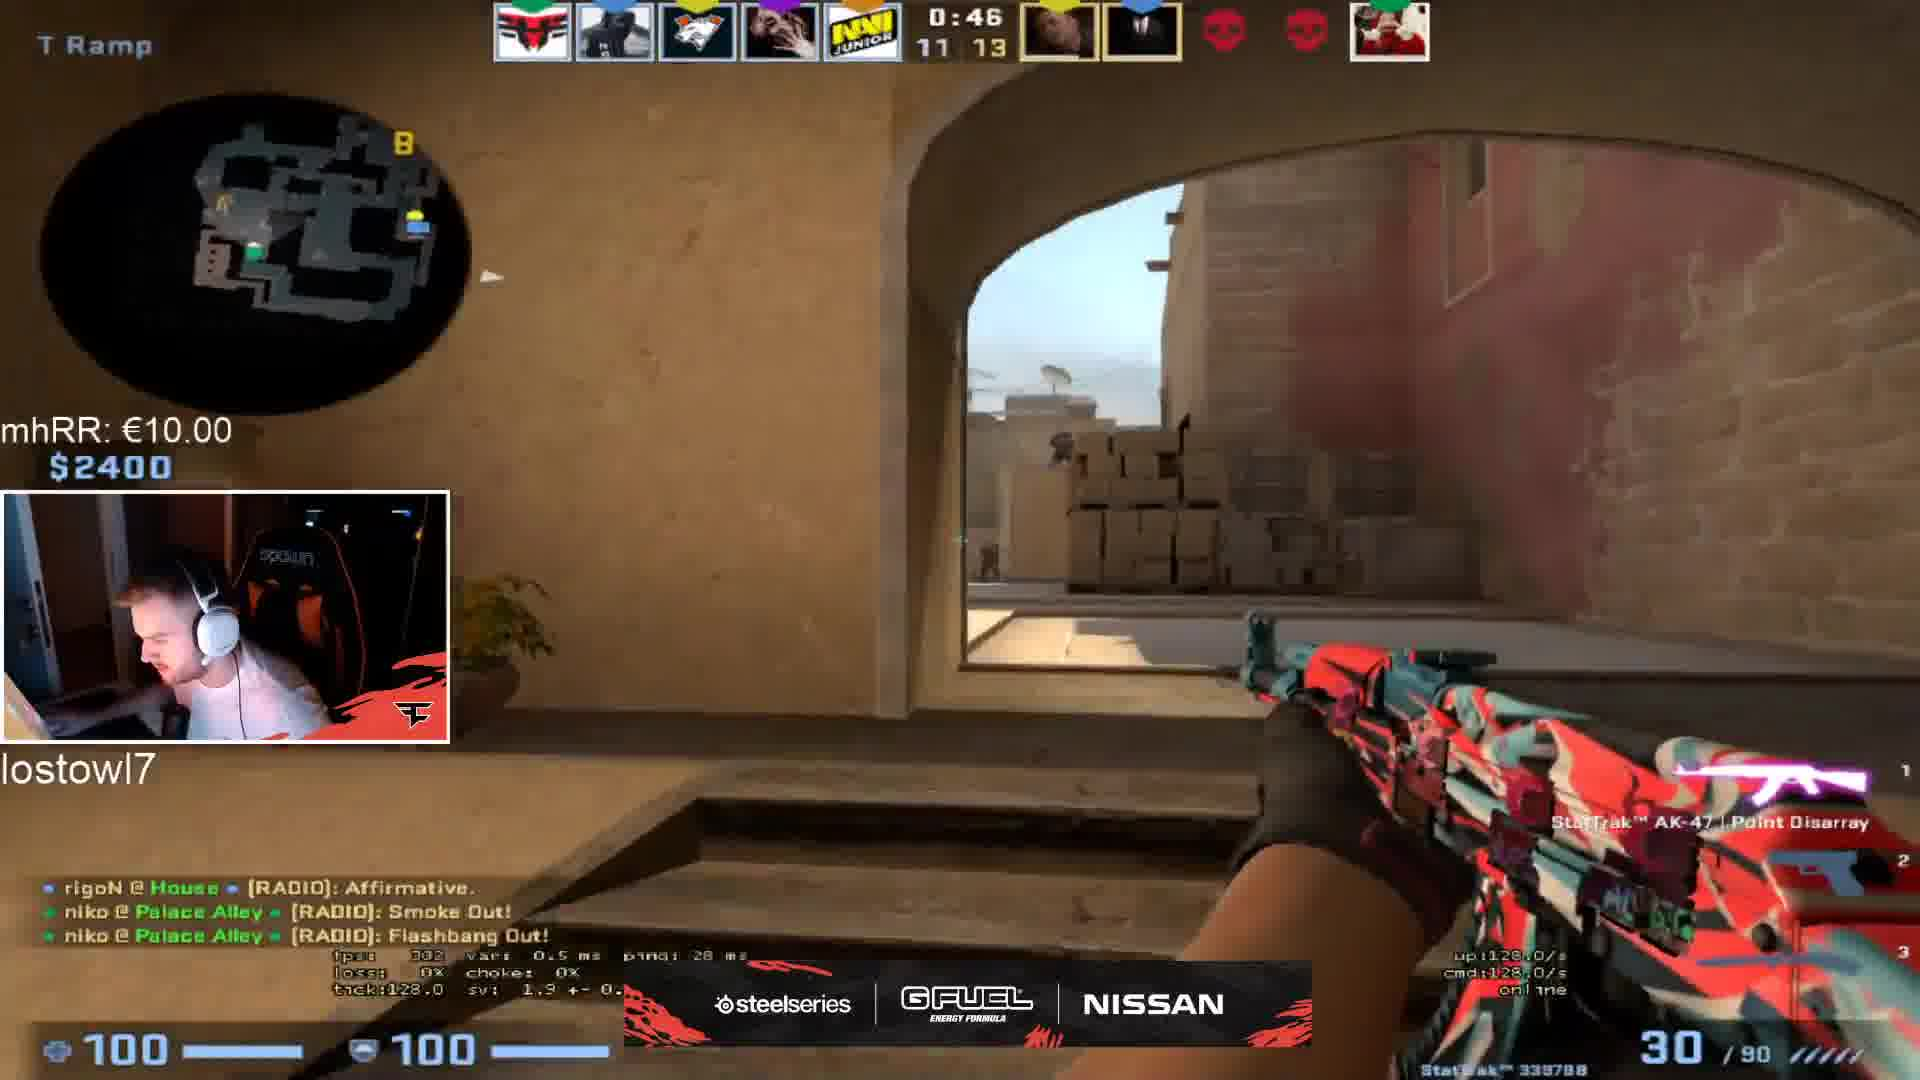enemy: (973, 535, 1004, 584), (1047, 425, 1075, 471)
